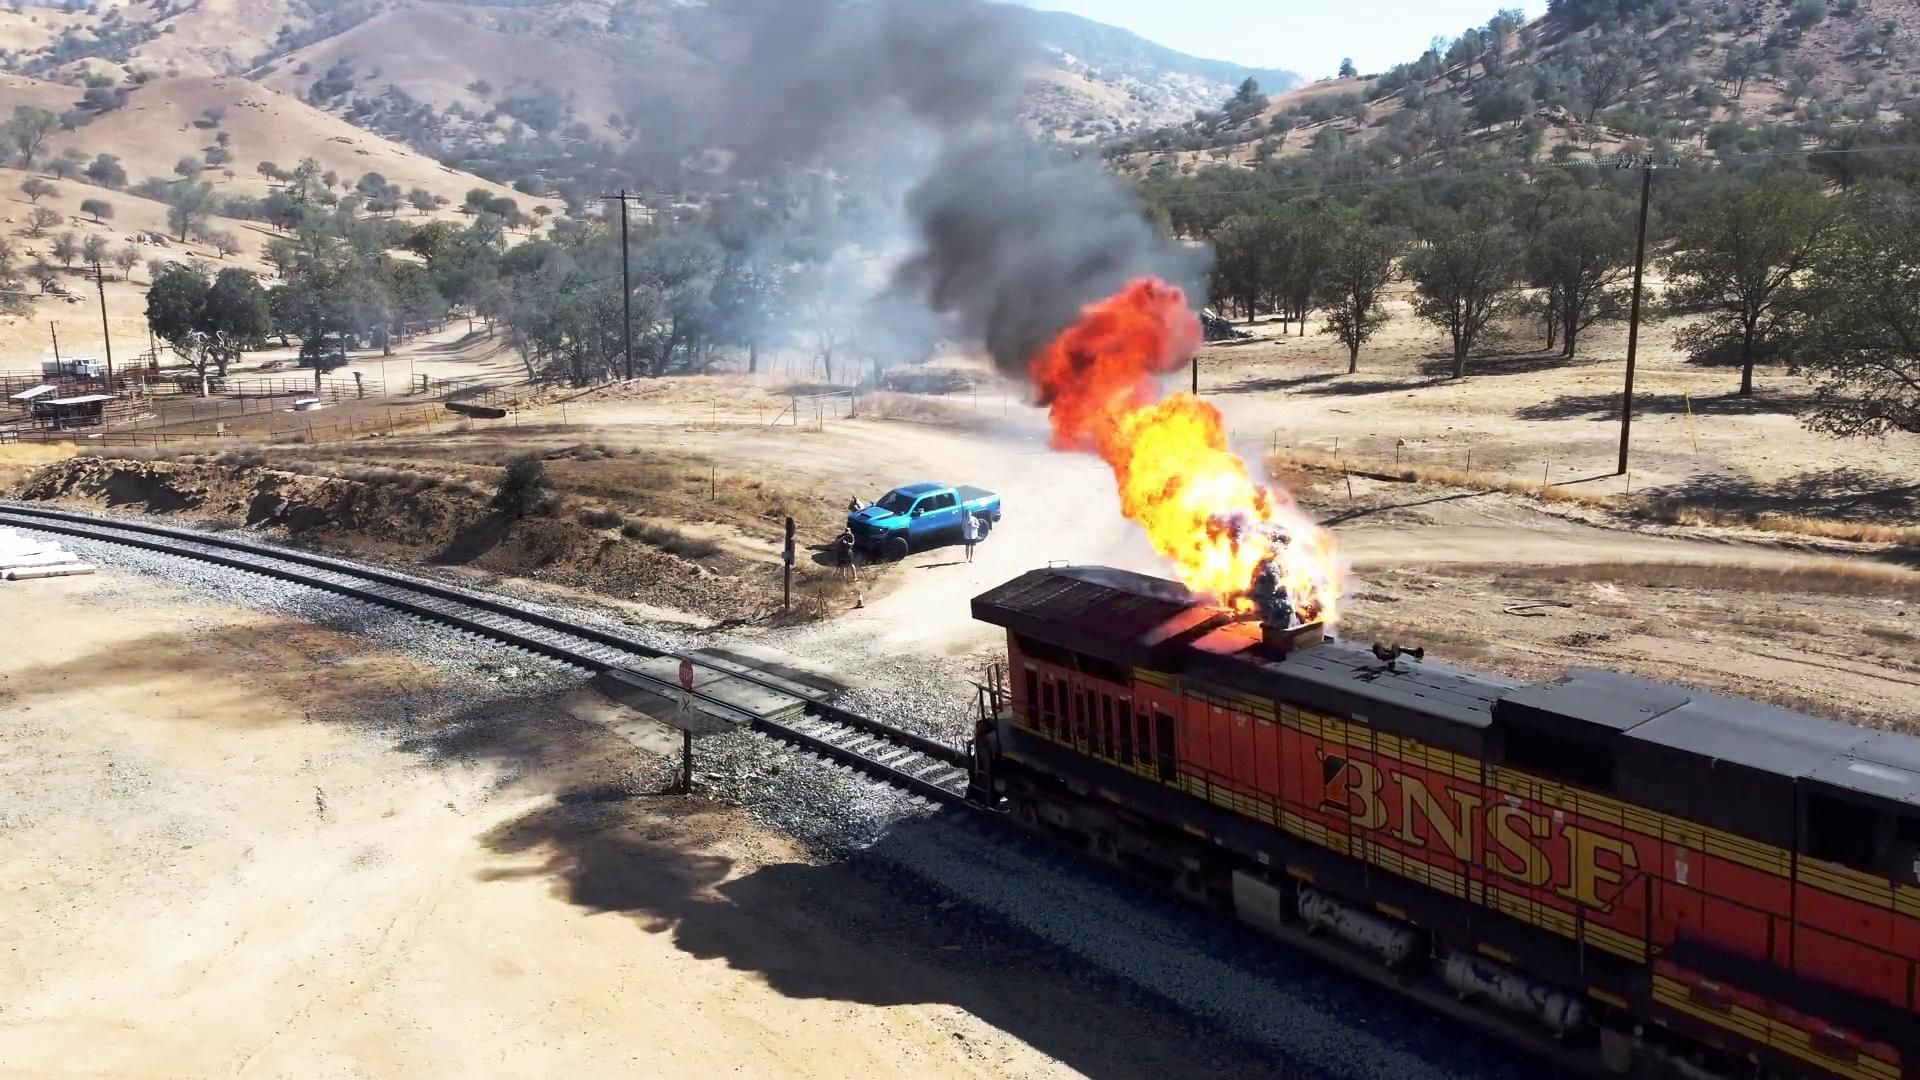fire: (1131, 407, 1317, 591), (1035, 293, 1197, 456)
smoke: (893, 117, 1175, 305)
